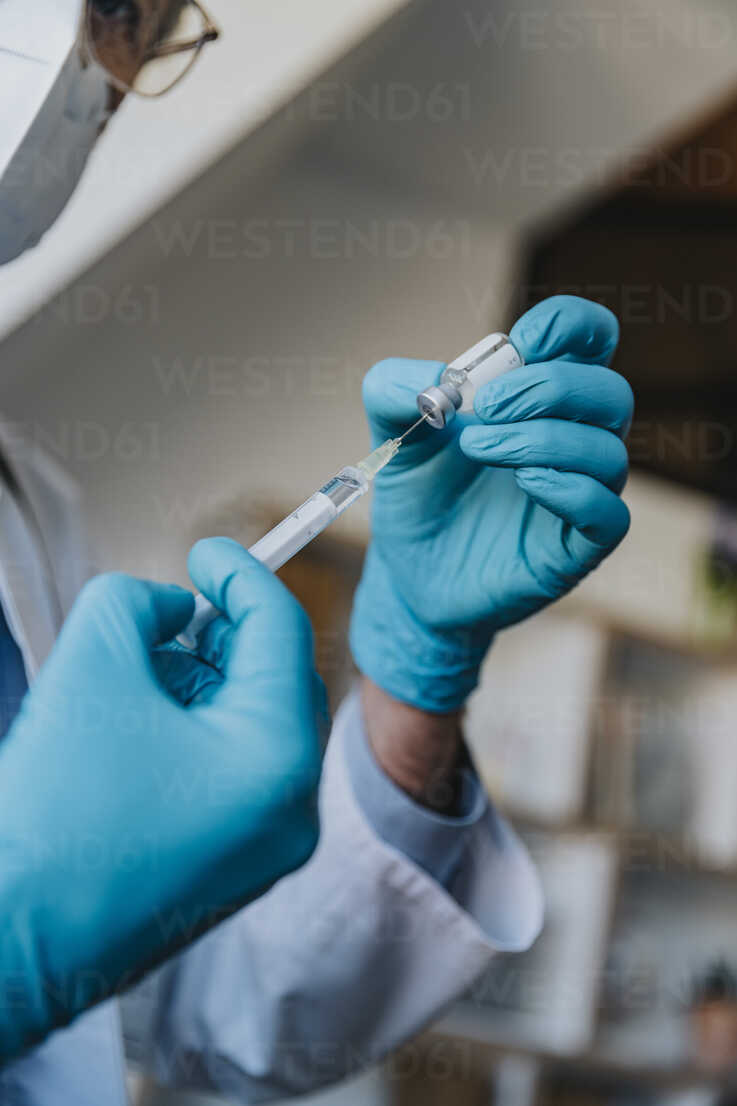Gloves: (1, 519, 334, 1059), (337, 284, 637, 712)
